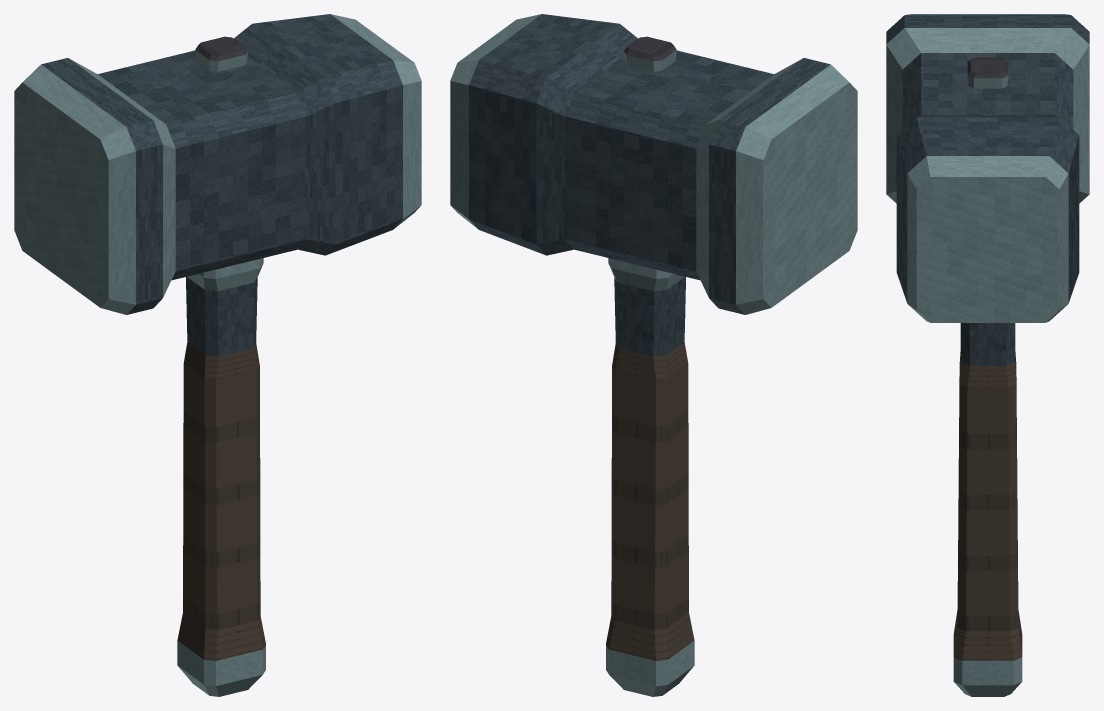
Rendered from xuantie_forging_hammer.obj.
3 renders of one model, left to right at view 1: azimuth 30°, elevation 25°; view 2: azimuth 150°, elevation 25°; view 3: azimuth 270°, elevation 25°, orthographic. The views are drawn at different scales.
Visible parts, largest first — view 1: geometry; view 2: geometry; view 3: geometry.
Part boxes in pixels (x1,y1,x2,y2): geometry: (14,14,421,696); geometry: (450,14,857,696); geometry: (886,14,1089,696).
Size of the model in its own units: 0.3444 by 0.6494 by 0.1925.
